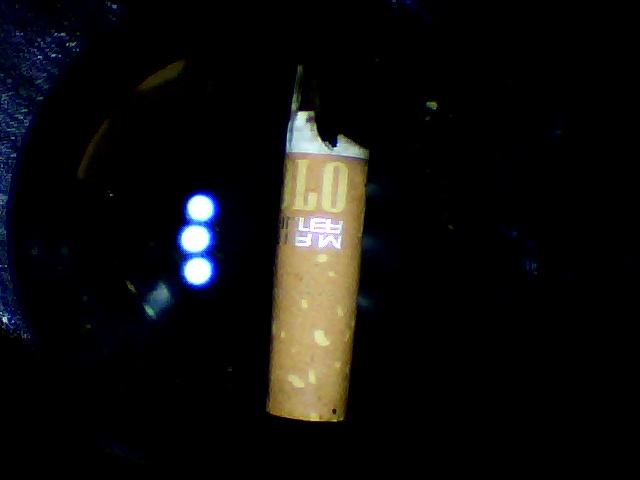megot: (251, 61, 377, 430)
